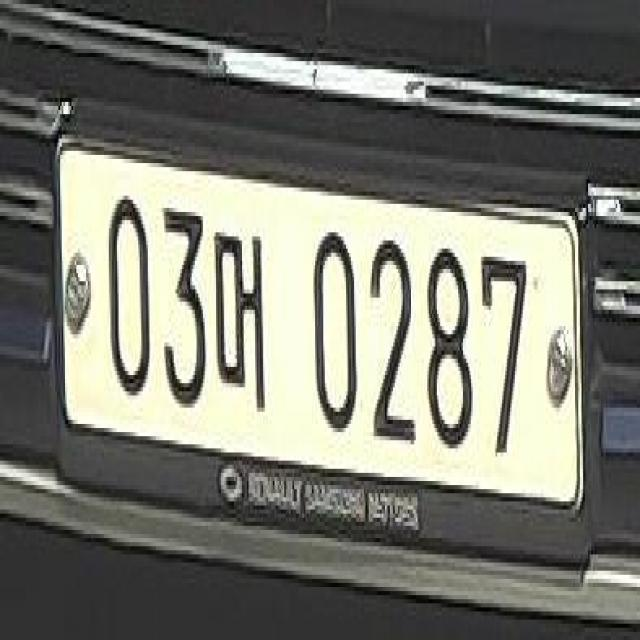illegal_plate: (62, 142, 596, 568)
